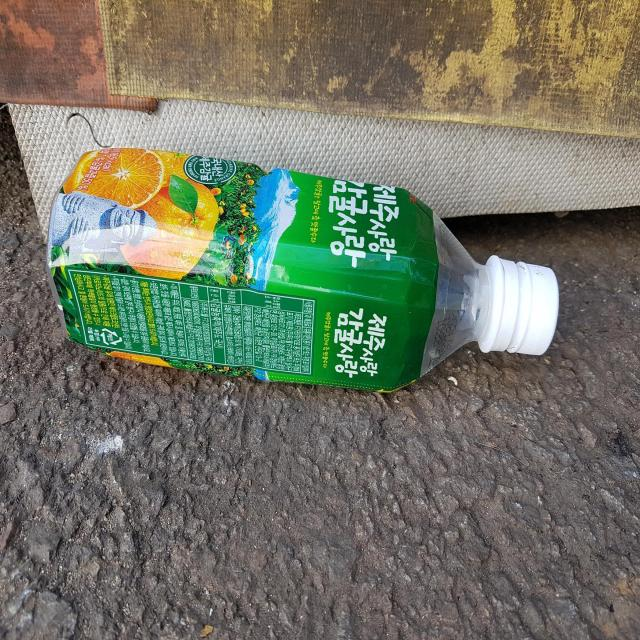plastic: (46, 147, 560, 391)
